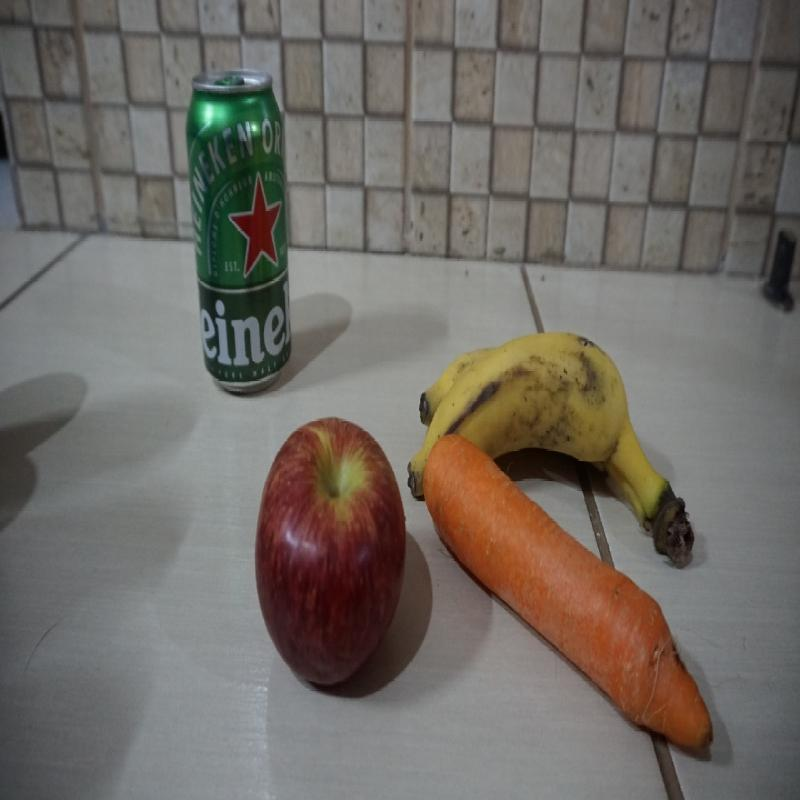Apple: (252, 416, 405, 695)
Banana: (408, 331, 692, 502)
Beer can: (185, 69, 296, 390)
Carrot: (421, 436, 715, 752)
